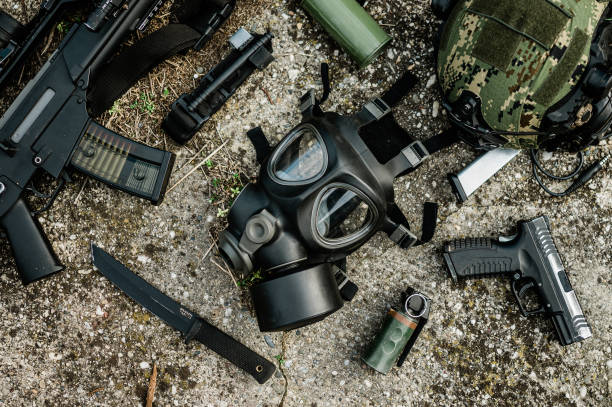e1: (362, 289, 431, 376)
